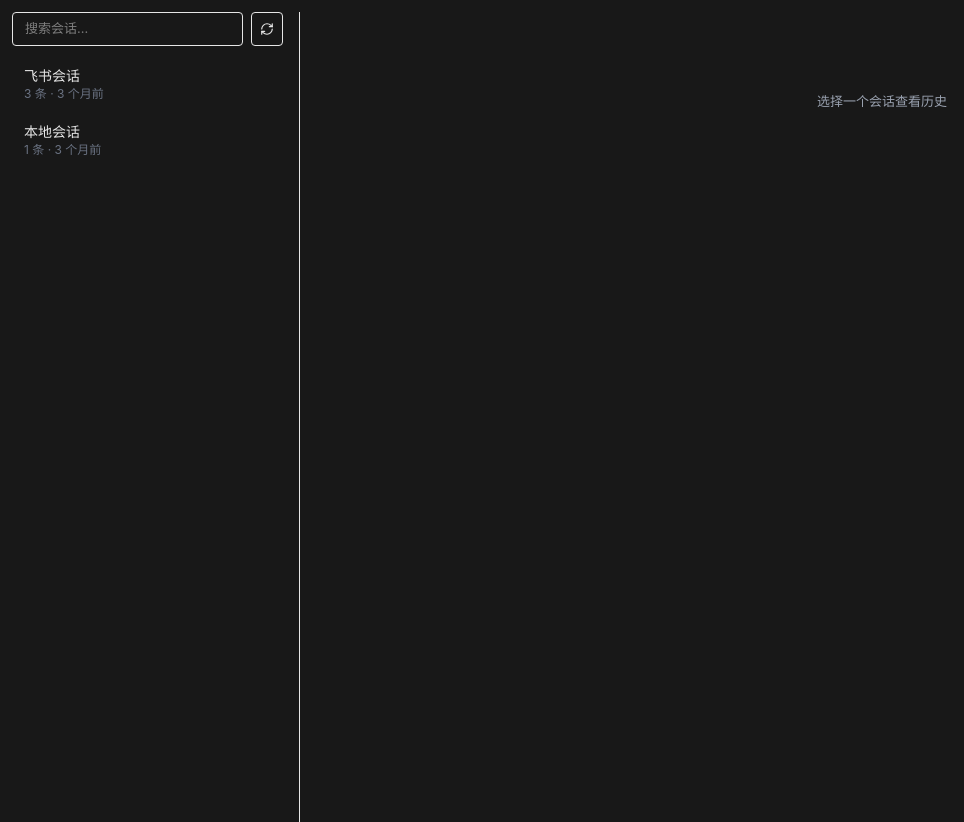
Sessions 页 › 搜索由后端在全量会话上执行
This screenshot has width=964, height=822.
Expected: the text "本地会话" is shown, [24,122,80,140]
Type "feishu" into the field labelled "搜索会话..." at [128, 29], box [12,12,243,46]
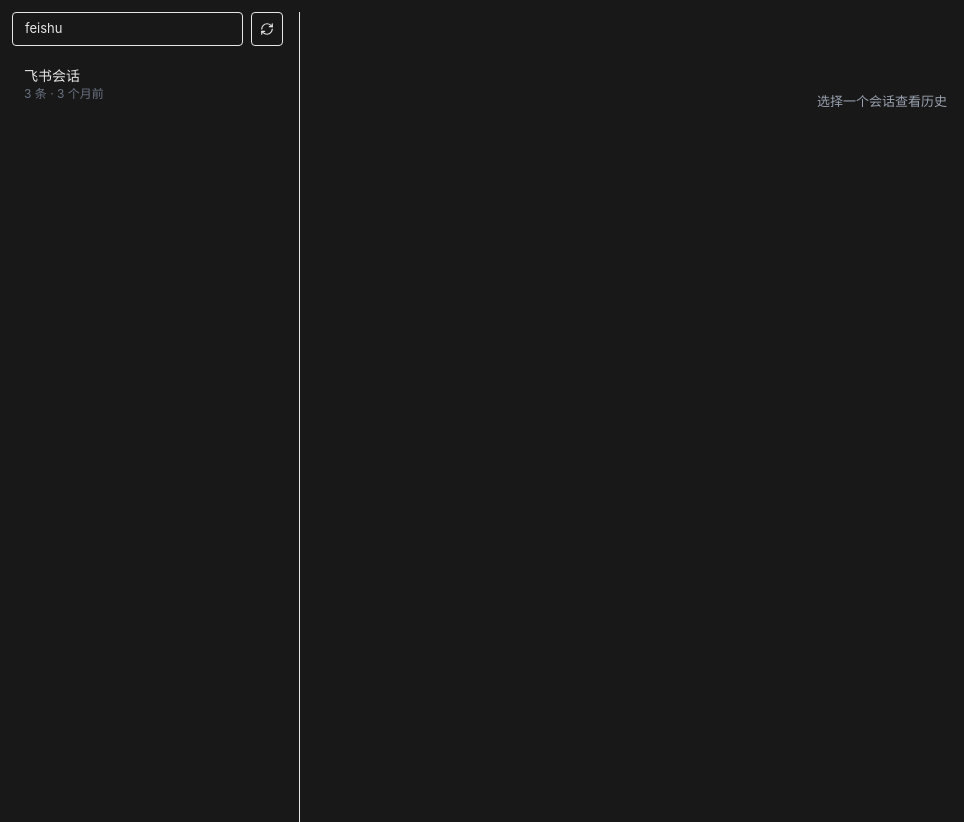
Expected: the text "飞书会话" is shown, [24,66,80,84]
Result: the button "本地会话" is gone
